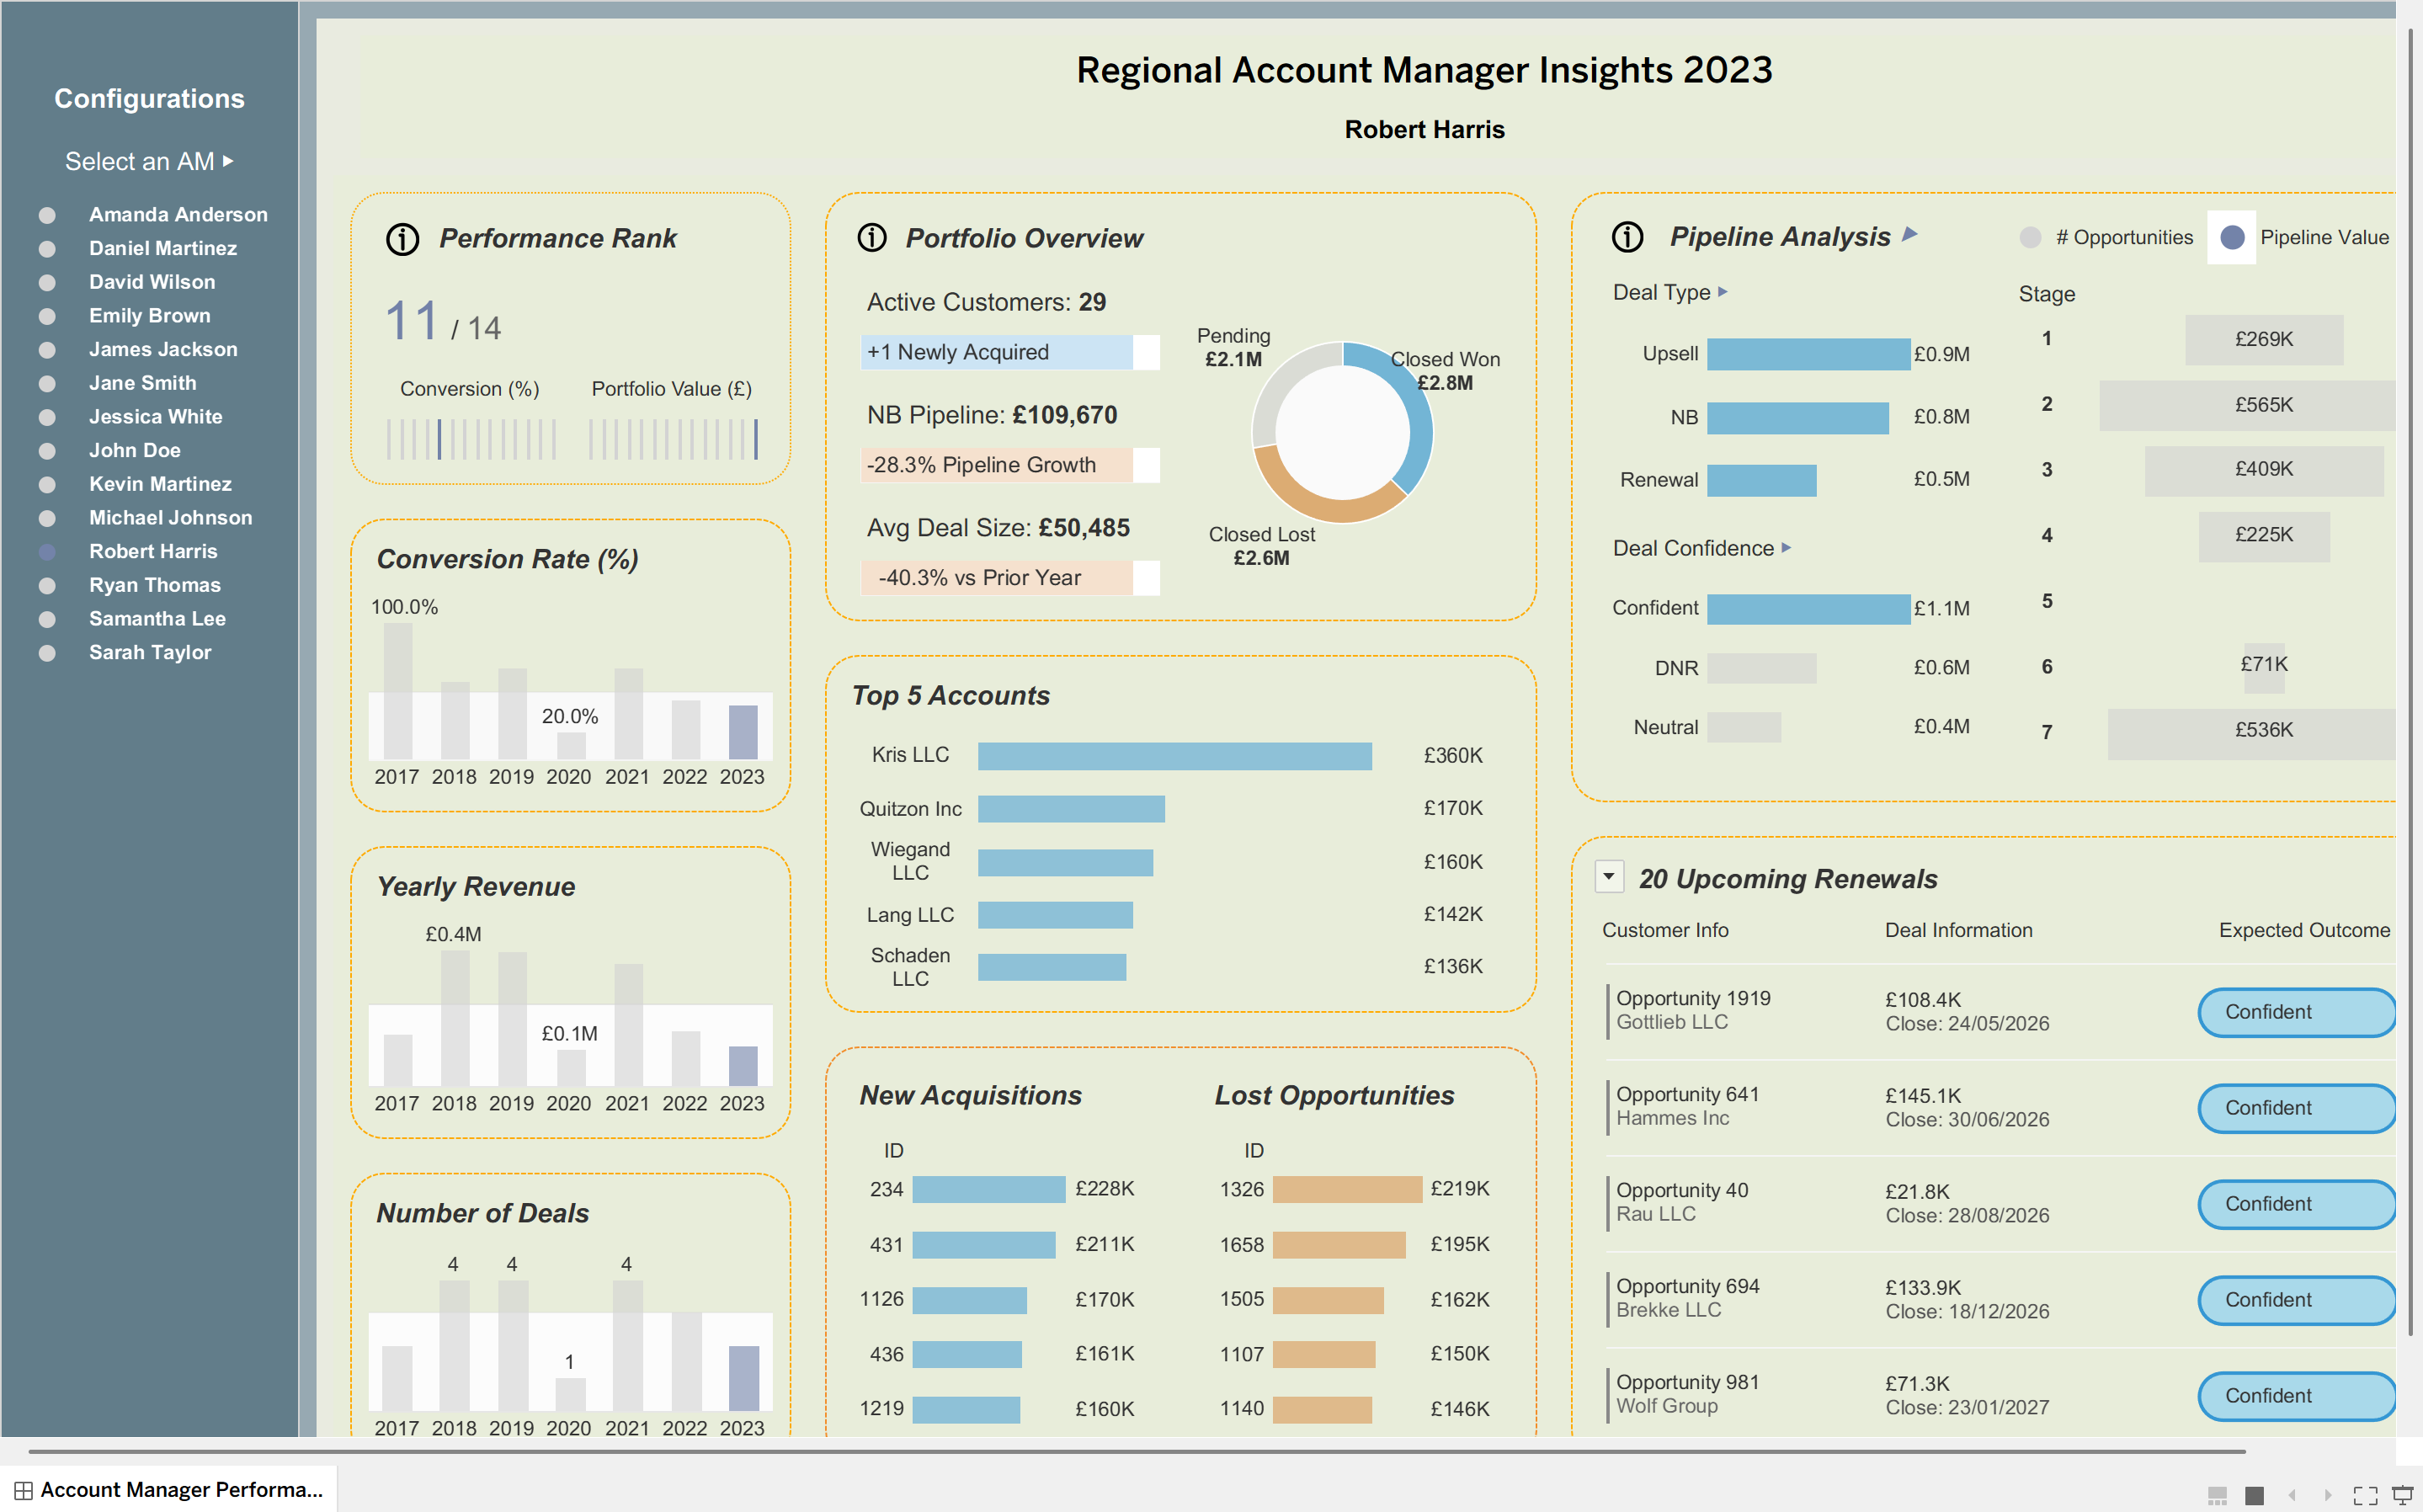

The page's visual inventory and layout, read from the dashboard file:
{"tool":"tableau","page":{"name":"Account Manager Performance (2)","canvas":[1500,900],"ordinal":0},"visuals":[{"type":"blank","box":[1,1,176,32]},{"type":"blank","box":[177,1,1,898]},{"type":"text","box":[188,11,1301,83]},{"type":"text","box":[1,33,176,51]},{"type":"text","box":[1,84,176,34]},{"type":"worksheet","title":"AM Selected Dot","mark":"Circle","rows":["Account Manager Name"],"box":[10,118,35,306]},{"type":"worksheet","title":"AM Name","mark":"Automatic","rows":["Account Manager Name"],"box":[45,118,128,306]},{"type":"worksheet","title":"Info Portfolio Overview (3)","mark":"Shape","rows":["Calculation_2303591209898918070"],"box":[219,125,39,34]},{"type":"text","box":[258,125,201,34]},{"type":"worksheet","title":"Info Portfolio Overview","mark":"Shape","rows":["Calculation_2303591209898918070"],"box":[501,125,34,32]},{"type":"text","box":[535,125,158,32]},{"type":"worksheet","title":"Portfolio Overview","mark":"Pie","rows":["Calculation_959548264120782854","Calculation_959548264120782854"],"box":[693,125,209,233]},{"type":"worksheet","title":"Info Portfolio Overview (2)","mark":"Shape","rows":["Calculation_2303591209898918070"],"box":[944,125,45,32]},{"type":"text","box":[989,125,156,32]},{"type":"blank","box":[1145,125,48,32]},{"type":"worksheet","title":"Opps Circle","mark":"Circle","box":[1193,125,26,32]},{"type":"text","box":[1219,125,92,32]},{"type":"worksheet","title":"Pipeline Value Circle","mark":"Circle","box":[1311,125,29,32]},{"type":"text","box":[1340,125,117.9,32]},{"type":"worksheet","title":"Active Customers Label","mark":"Bar","rows":["Calculation_2254614564231757827"],"cols":["Calculation_2254614564232318985"],"box":[501,157,192,67]},{"type":"worksheet","title":"Deal Type Bar","mark":"Automatic","rows":["Opportunity Type"],"cols":["Calculation_2303591209842720898","Calculation_2303591209879613619"],"box":[944,157,242,152]},{"type":"worksheet","title":"Pipeline","mark":"Bar","rows":["Opportunity Status","Calculation_2303591209816232060"],"cols":["Calculation_2303591209842720898","Calculation_2303591209842720898"],"box":[1186,157,272,308]},{"type":"worksheet","title":"Performance Rank","mark":"Automatic","rows":["Account Manager Name"],"box":[219,159,240,57]},{"type":"worksheet","title":"Float","mark":"Automatic","rows":["Opportunity Status"],"box":[1318,183,54,270]},{"type":"worksheet","title":"Rank - Conv","mark":"GanttBar","box":[219,216,120,61]},{"type":"worksheet","title":"Rank - Value","mark":"GanttBar","box":[339,216,120,61]},{"type":"worksheet","title":"Pipeline Growth Label","mark":"Bar","rows":["Calculation_2303591209578512475"],"cols":["Calculation_2254614564232081414"],"box":[501,224,192,67]},{"type":"worksheet","title":"Deal Size Label","mark":"Bar","rows":["Calculation_2303591209578512475"],"cols":["Calculation_2254614564232187911"],"box":[501,291,192,67]},{"type":"worksheet","title":"Conversion Rate","mark":"Bar","rows":["Calculation_959548264118865922"],"cols":["Close Date"],"box":[198,298,282,194]},{"type":"worksheet","title":"Deal Confidence Bar","mark":"Automatic","rows":["Calculation_2303591209557250115"],"cols":["Calculation_2303591209842720898","Calculation_2303591209879654580"],"box":[944,309,242,151]},{"type":"worksheet","title":"Top 5 Accounts","mark":"Automatic","rows":["Customer Name"],"cols":["Value"],"box":[480,379,443,232]},{"type":"blank","box":[1,424,176,275]},{"type":"worksheet","title":"Yearly Revenue","mark":"Bar","rows":["Value","Value"],"cols":["Close Date"],"box":[198,492,282,194]},{"type":"parameter","param":"[Parameters].[Parameter 3]","box":[939,502,29,40]},{"type":"worksheet","title":"Renewals Title","mark":"Automatic","box":[968,502,405,40]},{"type":"highlighter","title":"Pipeline Value Circle","param":"[federated.0hpu0v20nx2j3c1g4cz9t12pd8ab].[none:Calculation_2303591209862103197:n","box":[1373,502,90,40]},{"type":"text","box":[949,542,168,20]},{"type":"text","box":[1117,542,168,20]},{"type":"text","box":[1285,542,168,20]},{"type":"worksheet","title":"Upcoming Renewals Table","mark":"Automatic","rows":["Opportunity Name"],"cols":["Calculation_2303591209552867390","Calculation_2303591209554972738"],"box":[939,562,524,301]},{"type":"worksheet","title":"Top 5 Opps","mark":"Automatic","rows":["Opportunity Number (copy)_2163135197175652352"],"cols":["Value"],"box":[491,622,211,246]},{"type":"worksheet","title":"Lost Opportunities","mark":"Automatic","rows":["Opportunity Number (copy)_2163135197175652352"],"cols":["Value"],"box":[702,622,210,246]},{"type":"worksheet","title":"Number of Deals Bar","mark":"Bar","rows":["Opportunity Name"],"cols":["Close Date"],"box":[198,686,282,193]}]}

Visuals, with their boxes on the page's 1500x900 design canvas (x1, y1, x2, y2). These are canvas units, not pixel positions in the 2423x1512 screenshot, which may show the page scaled, cropped or inside an application window:
blank: crop(1, 1, 177, 33)
blank: crop(177, 1, 178, 899)
text: crop(188, 11, 1489, 94)
text: crop(1, 33, 177, 84)
text: crop(1, 84, 177, 118)
"AM Selected Dot" worksheet (Circle marks): crop(10, 118, 45, 424)
"AM Name" worksheet: crop(45, 118, 173, 424)
"Info Portfolio Overview (3)" worksheet (Shape marks): crop(219, 125, 258, 159)
text: crop(258, 125, 459, 159)
"Info Portfolio Overview" worksheet (Shape marks): crop(501, 125, 535, 157)
text: crop(535, 125, 693, 157)
"Portfolio Overview" worksheet (Pie marks): crop(693, 125, 902, 358)
"Info Portfolio Overview (2)" worksheet (Shape marks): crop(944, 125, 989, 157)
text: crop(989, 125, 1145, 157)
blank: crop(1145, 125, 1193, 157)
"Opps Circle" worksheet (Circle marks): crop(1193, 125, 1219, 157)
text: crop(1219, 125, 1311, 157)
"Pipeline Value Circle" worksheet (Circle marks): crop(1311, 125, 1340, 157)
text: crop(1340, 125, 1458, 157)
"Active Customers Label" worksheet (Bar marks): crop(501, 157, 693, 224)
"Deal Type Bar" worksheet: crop(944, 157, 1186, 309)
"Pipeline" worksheet (Bar marks): crop(1186, 157, 1458, 465)
"Performance Rank" worksheet: crop(219, 159, 459, 216)
"Float" worksheet: crop(1318, 183, 1372, 453)
"Rank - Conv" worksheet (GanttBar marks): crop(219, 216, 339, 277)
"Rank - Value" worksheet (GanttBar marks): crop(339, 216, 459, 277)
"Pipeline Growth Label" worksheet (Bar marks): crop(501, 224, 693, 291)
"Deal Size Label" worksheet (Bar marks): crop(501, 291, 693, 358)
"Conversion Rate" worksheet (Bar marks): crop(198, 298, 480, 492)
"Deal Confidence Bar" worksheet: crop(944, 309, 1186, 460)
"Top 5 Accounts" worksheet: crop(480, 379, 923, 611)
blank: crop(1, 424, 177, 699)
"Yearly Revenue" worksheet (Bar marks): crop(198, 492, 480, 686)
parameter: crop(939, 502, 968, 542)
"Renewals Title" worksheet: crop(968, 502, 1373, 542)
"Pipeline Value Circle" highlighter: crop(1373, 502, 1463, 542)
text: crop(949, 542, 1117, 562)
text: crop(1117, 542, 1285, 562)
text: crop(1285, 542, 1453, 562)
"Upcoming Renewals Table" worksheet: crop(939, 562, 1463, 863)
"Top 5 Opps" worksheet: crop(491, 622, 702, 868)
"Lost Opportunities" worksheet: crop(702, 622, 912, 868)
"Number of Deals Bar" worksheet (Bar marks): crop(198, 686, 480, 879)
